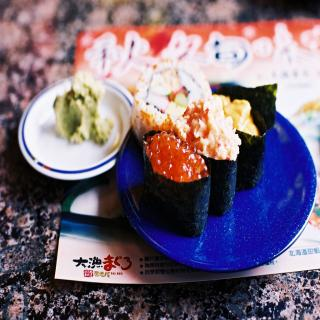Sushi: (131, 58, 277, 237)
